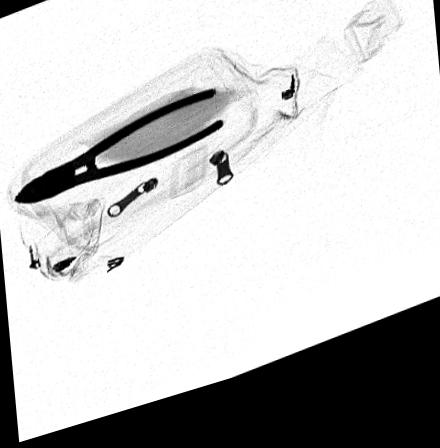Pliers: (11, 97, 228, 210)
